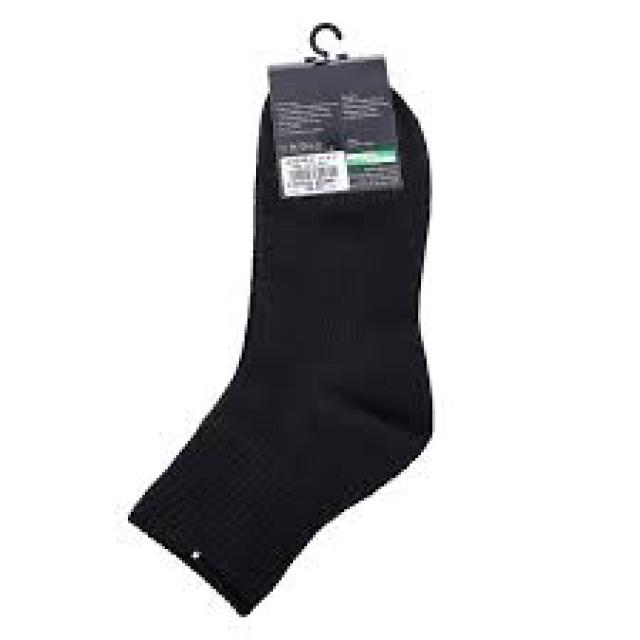sock: (125, 20, 432, 614)
